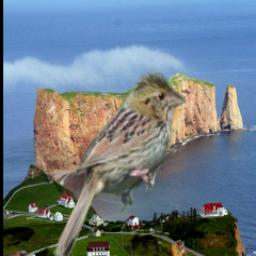Sparrow: (50, 70, 187, 256)
